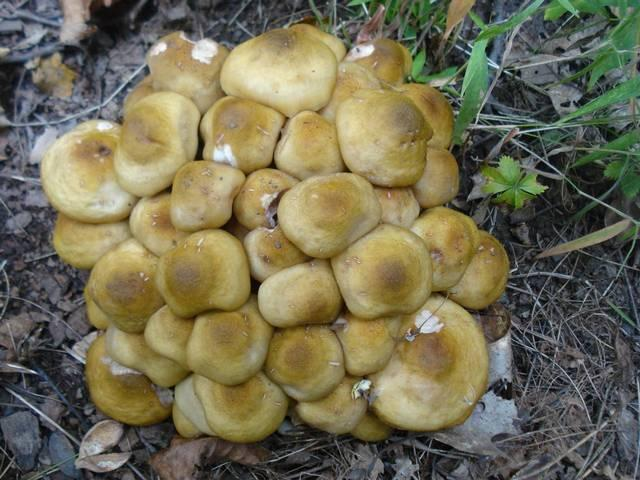edible_mushroom: (39, 22, 512, 444)
